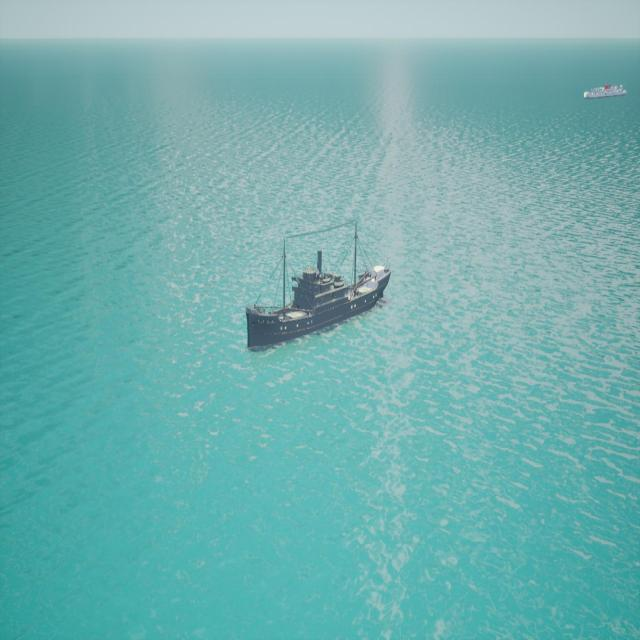fishing ship: (245, 246, 391, 352), (583, 85, 630, 102)
